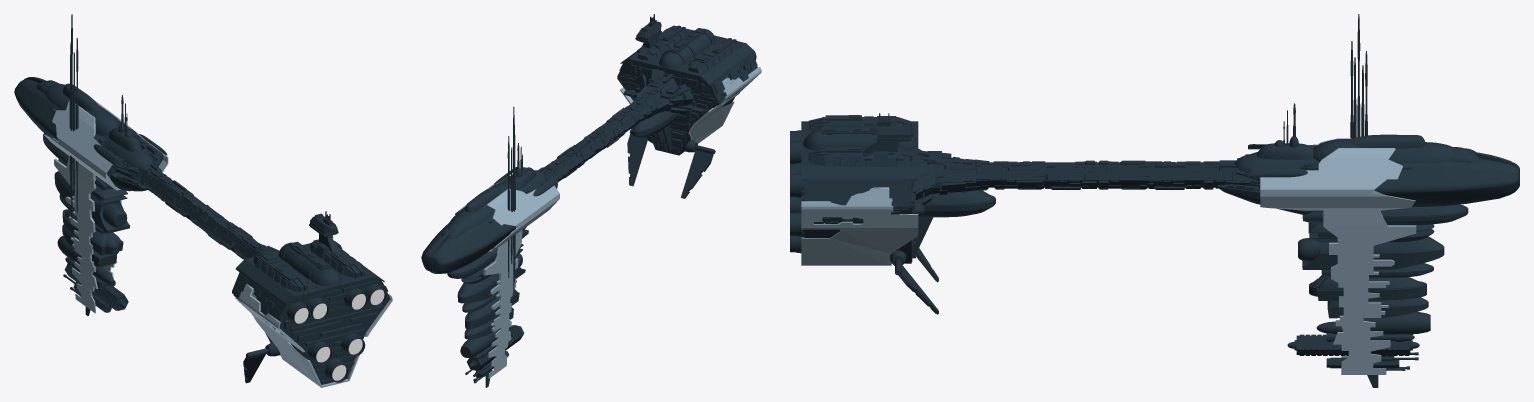
The model's file is Nebulon.FBX.
3 views of the same model, side by side, from view 1: azimuth 30°, elevation 25°; view 2: azimuth 150°, elevation 25°; view 3: azimuth 270°, elevation 25° (orthographic). The views are drawn at different scales.
Visible parts, largest first — view 1: Object03, Object40, Object05, Object02, Object39, Object06, Object11, Object01, Object04; view 2: Object03, Object40, Object05, Object39, Object06, Object02, Object04, Object01; view 3: Object40, Object03, Object39, Object02, Object05, Object04, Object11, Object01, Object06.
Part boxes in pixels (x1,y1,x2,y2): Object03: (14, 77, 168, 191); Object40: (43, 133, 130, 315); Object05: (235, 211, 384, 306); Object02: (232, 272, 392, 387); Object39: (116, 163, 278, 259); Object06: (243, 280, 386, 384); Object11: (286, 283, 386, 382); Object01: (69, 14, 78, 219); Object04: (232, 273, 388, 337); Object03: (421, 143, 559, 273); Object40: (447, 227, 528, 387); Object05: (620, 14, 754, 85); Object39: (538, 68, 694, 181); Object06: (620, 61, 715, 198); Object02: (617, 54, 761, 155); Object04: (619, 55, 757, 150); Object01: (507, 106, 515, 291); Object40: (1277, 204, 1468, 387); Object03: (1217, 103, 1519, 210); Object39: (911, 148, 1260, 204); Object02: (801, 181, 918, 265); Object05: (801, 113, 918, 181); Object04: (805, 151, 995, 253); Object11: (790, 130, 804, 253); Object01: (1350, 14, 1367, 138); Object06: (800, 181, 938, 314).
Size of the model in its own units: 12967 by 33372 by 61178.
